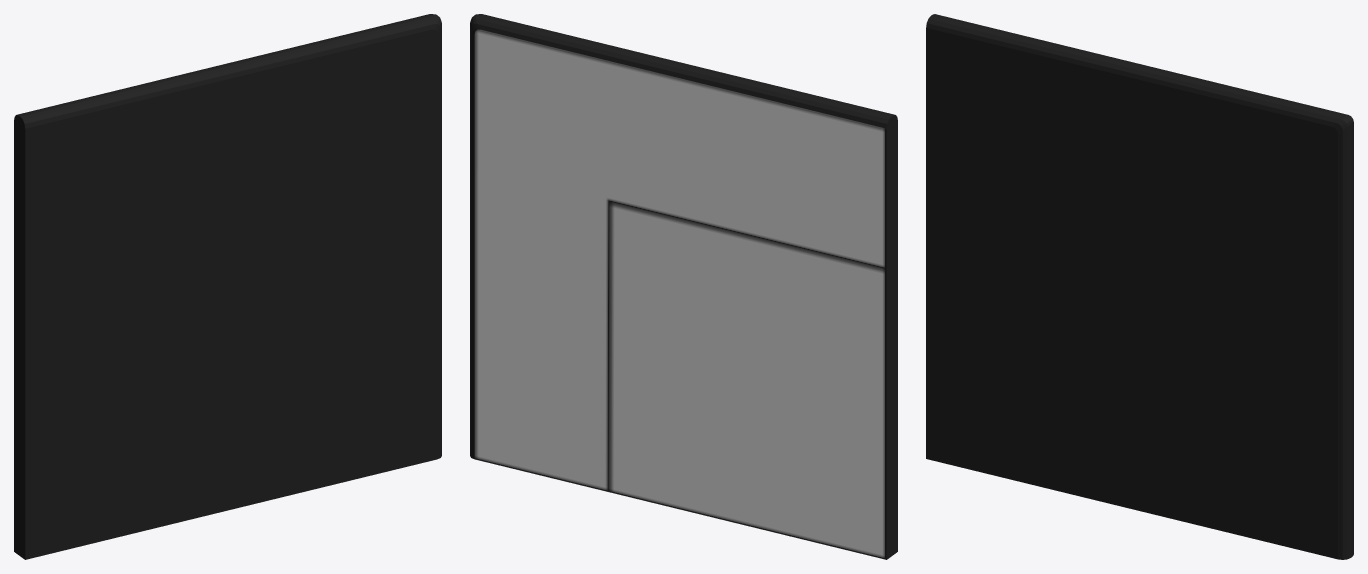
Rendered from JailVisit.fbx.
3 renders of one model, left to right at view 1: azimuth 30°, elevation 25°; view 2: azimuth 150°, elevation 25°; view 3: azimuth 330°, elevation 25°, orthographic.
Visible parts, largest first — view 1: JailVisit; view 2: JailVisit; view 3: JailVisit.
Boxes of the visible parts, bbox=[...] form: JailVisit: bbox=[14, 14, 441, 559]; JailVisit: bbox=[470, 14, 897, 559]; JailVisit: bbox=[926, 14, 1353, 559].
Size of the model in its own units: 26 by 26 by 1.2.
